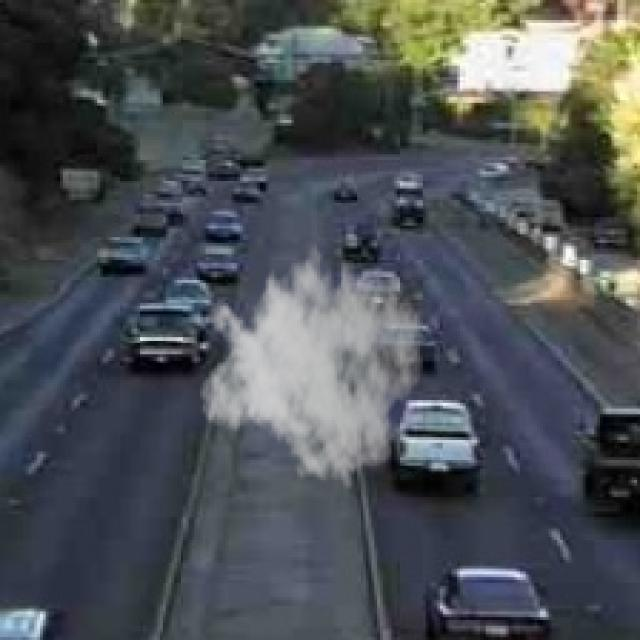smoke: (197, 228, 426, 492)
